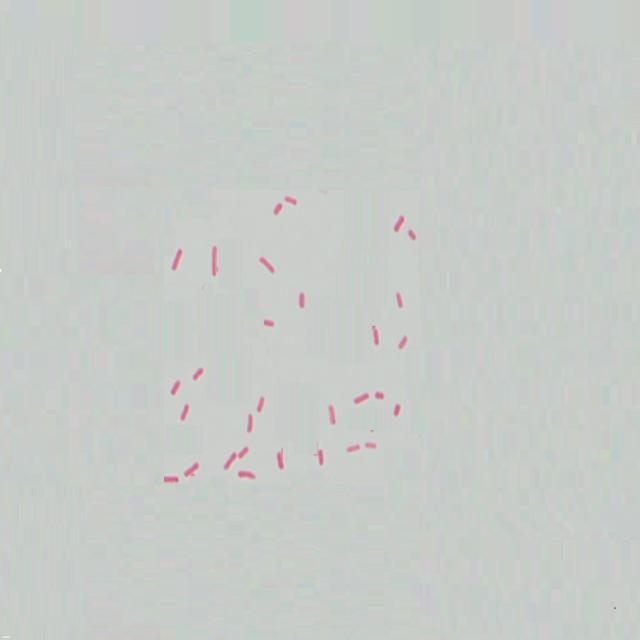E-coli: (254, 255, 277, 277), (169, 248, 187, 276), (209, 243, 221, 282), (161, 468, 181, 490), (235, 468, 257, 484), (394, 289, 408, 314), (369, 321, 381, 348), (391, 214, 405, 237), (326, 405, 340, 427), (222, 450, 237, 470), (274, 448, 286, 472), (244, 408, 255, 434), (191, 367, 205, 387), (352, 390, 370, 405), (179, 402, 191, 424), (257, 395, 269, 417), (364, 438, 380, 454), (315, 447, 326, 470), (186, 459, 200, 477), (399, 332, 410, 354), (169, 379, 182, 397), (405, 226, 418, 244), (286, 192, 300, 208), (298, 290, 308, 312), (393, 401, 405, 419), (347, 441, 360, 457), (262, 317, 276, 330), (241, 443, 251, 461), (375, 389, 386, 404), (274, 202, 284, 218)
